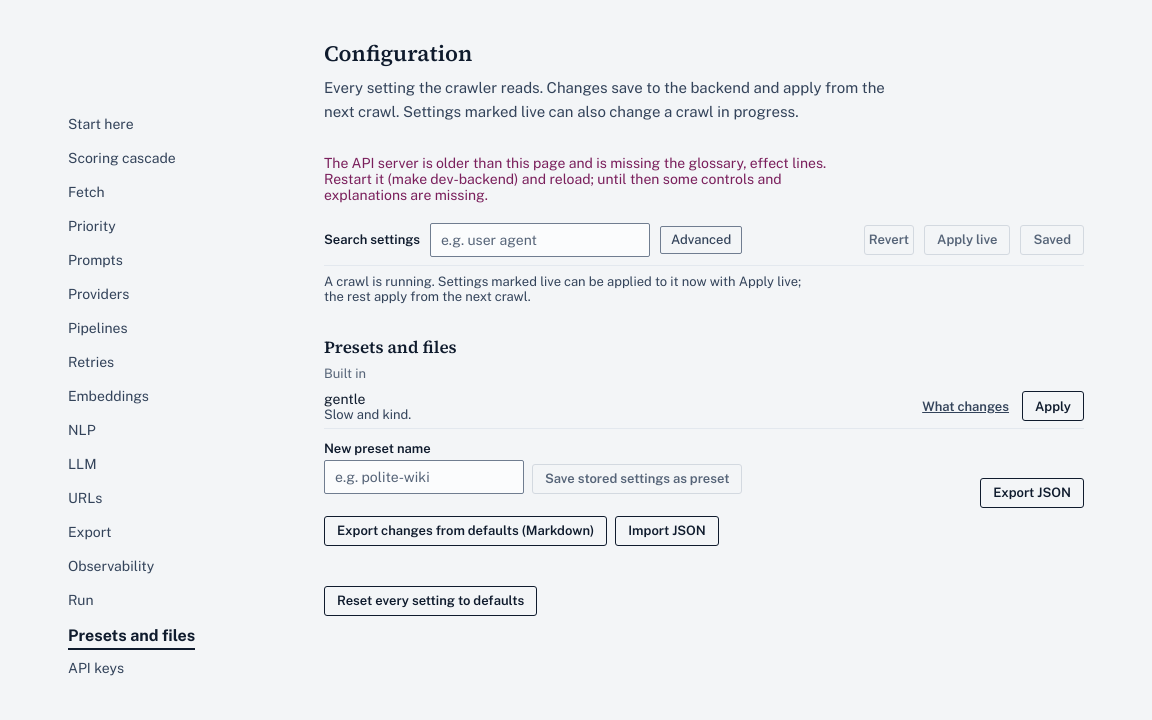
Test case: ConfigPage › shows what a preset changes before applying it
Check: the text "Slow and kind." is shown, box [324,407,411,422]
Step 1. Click the button with aria-label "What changes in preset gentle" → (966, 406), box [917,392,1014,422]
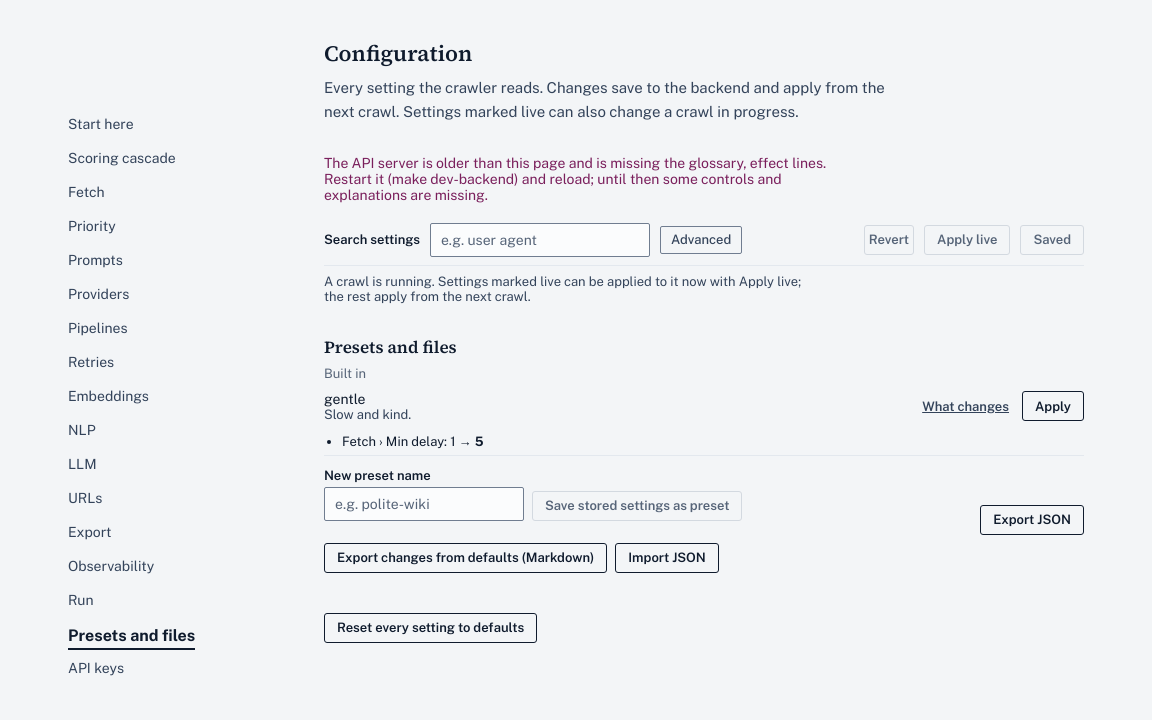
Check: the list named "Changes made by gentle" reads "Fetch › Min delay: 1 → 5", box [342,434,484,449]
